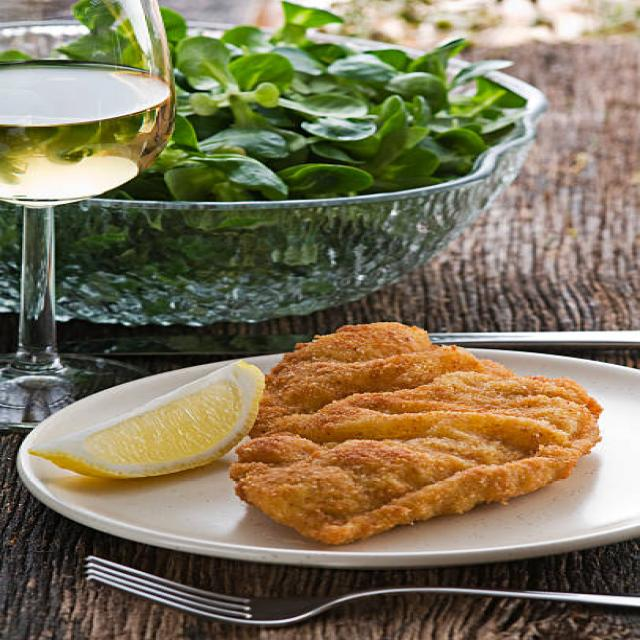Frango: (222, 318, 606, 543)
